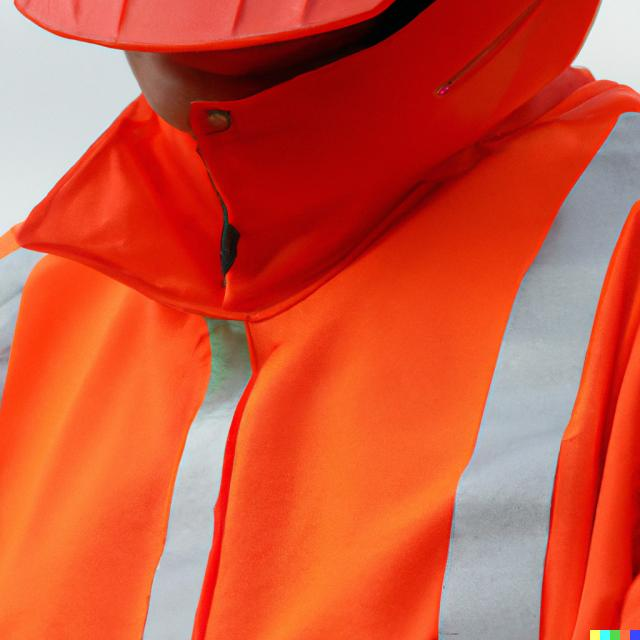Reflective-Jacket: (2, 13, 612, 640)
Safety-Helmet: (16, 0, 465, 54)
